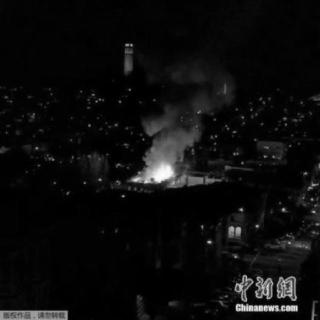Fire: (138, 154, 178, 182)
other: (225, 268, 302, 306)
